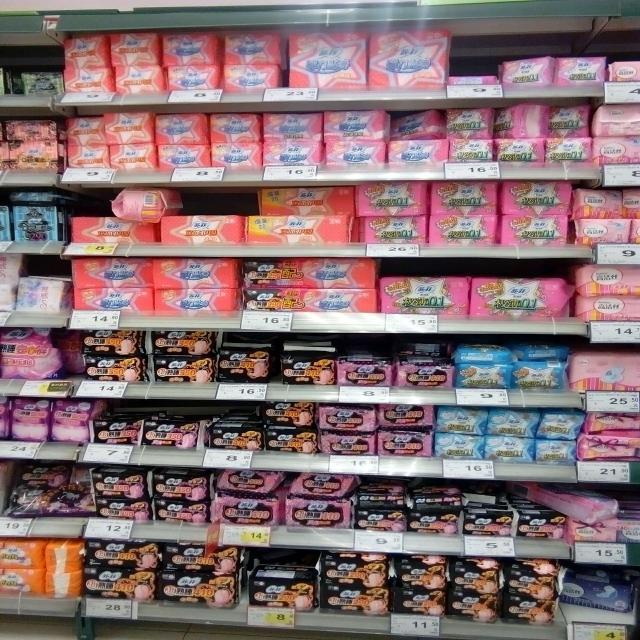Imprecise: (245, 184, 370, 252), (10, 464, 94, 520), (563, 564, 637, 626), (526, 478, 618, 522), (386, 106, 448, 163), (108, 188, 182, 222)
